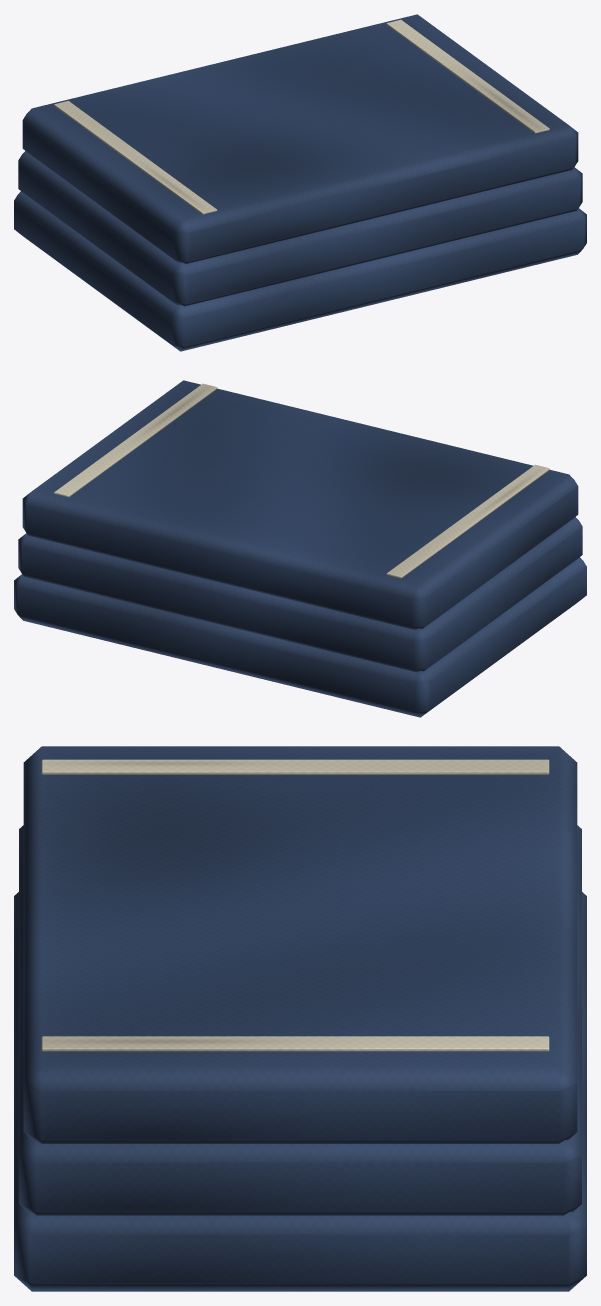
Rendered from Hold_Blanket.fbx.
The picture shows the model from 3 angles, top to bottom: view 1: azimuth 30°, elevation 25°; view 2: azimuth 150°, elevation 25°; view 3: azimuth 270°, elevation 25°; orthographic projection. The views are drawn at different scales.
Parts seen in each view (by area): view 1: Hold_Blanket; view 2: Hold_Blanket; view 3: Hold_Blanket.
Boxes of the visible parts, <box> form: Hold_Blanket: <box>14,14,586,351</box>; Hold_Blanket: <box>14,380,586,717</box>; Hold_Blanket: <box>14,746,586,1291</box>.
Size of the model in its own units: 0.5 by 0.15 by 0.35.
1 material, 1 textured.
